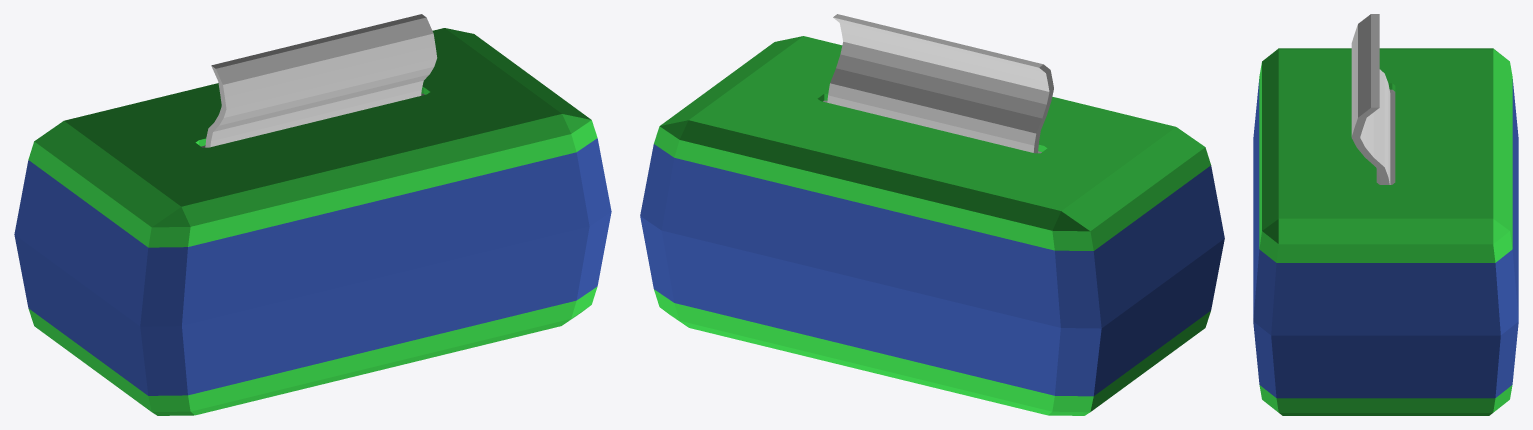
Rendered from Paper Box 1.fbx.
3 renders of one model, left to right at view 1: azimuth 30°, elevation 25°; view 2: azimuth 150°, elevation 25°; view 3: azimuth 270°, elevation 25°, orthographic. The views are drawn at different scales.
Visible parts, largest first — view 1: Node 0; view 2: Node 0; view 3: Node 0.
Boxes of the visible parts, bbox=[...] form: Node 0: bbox=[14, 14, 611, 415]; Node 0: bbox=[640, 14, 1224, 415]; Node 0: bbox=[1253, 14, 1518, 415].
Size of the model in its own units: 0.1411 by 0.1529 by 0.264.
